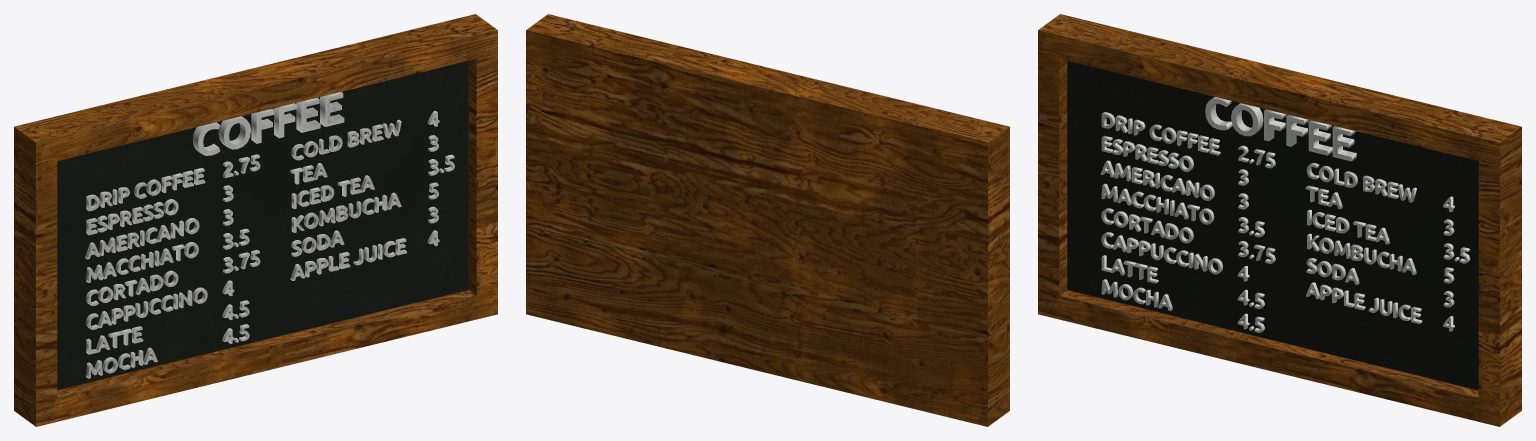
The model's file is CoffeeMenu.glb.
3 renders of one model, left to right at view 1: azimuth 30°, elevation 25°; view 2: azimuth 150°, elevation 25°; view 3: azimuth 330°, elevation 25°, orthographic.
Parts seen in each view (by area): view 1: Menu_Menu_0; view 2: Menu_Menu_0; view 3: Menu_Menu_0.
Boxes of the visible parts, box(x1,y1,x2,y2) form: Menu_Menu_0: box(14, 14, 497, 426); Menu_Menu_0: box(526, 14, 1009, 426); Menu_Menu_0: box(1038, 14, 1521, 426).
Bounding box in the file's own units: 1.7 × 1 × 0.1405.
Materials: 1 (1 with a texture image).
